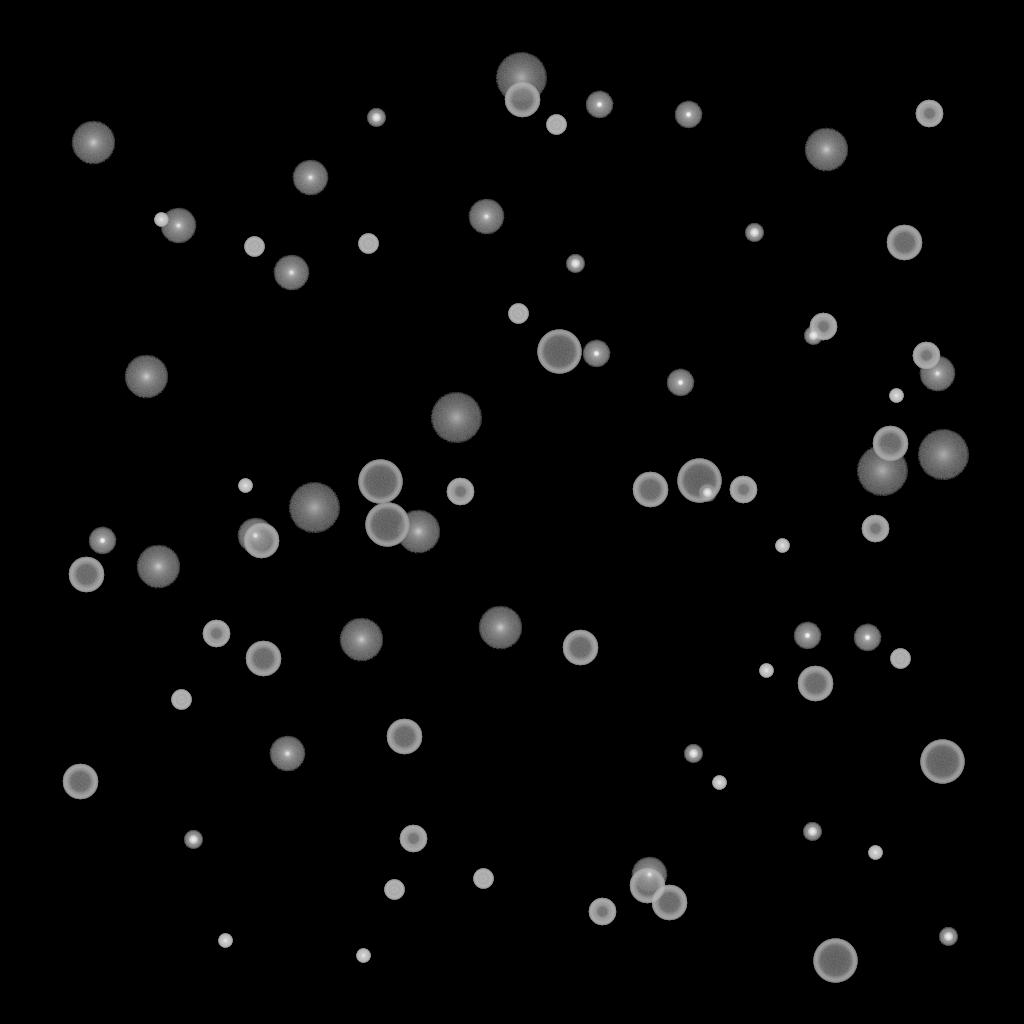depth:-10: (88, 527, 116, 555), (674, 101, 702, 129), (582, 340, 610, 368), (793, 622, 821, 650), (853, 624, 881, 652), (666, 369, 694, 397), (585, 91, 613, 119)
depth:-20: (184, 831, 202, 849), (684, 745, 702, 763), (566, 255, 584, 273), (939, 928, 957, 946), (745, 224, 763, 242), (804, 327, 822, 345), (698, 484, 716, 502), (803, 823, 821, 841), (367, 109, 385, 127)
depth:-30: (868, 846, 882, 860), (154, 213, 168, 227), (775, 539, 789, 553), (759, 664, 773, 678), (238, 479, 252, 493), (889, 389, 903, 403), (356, 949, 370, 963), (712, 776, 726, 790), (218, 934, 232, 948)
depth:-40: (473, 869, 493, 889), (358, 234, 378, 254), (546, 115, 566, 135), (171, 690, 191, 710), (384, 880, 404, 900), (890, 649, 910, 669), (244, 237, 264, 257), (508, 304, 528, 324)
depth:-50: (399, 825, 427, 853), (202, 620, 230, 648), (912, 342, 940, 370), (446, 478, 474, 506), (809, 313, 837, 341), (729, 476, 757, 504), (915, 100, 943, 128), (861, 515, 889, 543), (588, 898, 616, 926)
depth:-60: (245, 641, 281, 677), (632, 472, 668, 508), (886, 225, 922, 261), (243, 523, 279, 559), (797, 666, 833, 702), (651, 885, 687, 921), (386, 719, 422, 755), (68, 557, 104, 593), (629, 868, 665, 904), (872, 426, 908, 462), (62, 764, 98, 800), (562, 630, 598, 666), (504, 82, 540, 118)
depth:-70: (677, 459, 721, 503), (365, 503, 409, 547), (358, 460, 402, 504), (813, 939, 857, 983), (537, 330, 581, 374), (920, 740, 964, 784)
depth:0: (269, 736, 305, 772), (919, 356, 955, 392), (292, 160, 328, 196), (631, 857, 667, 893), (273, 255, 309, 291), (468, 199, 504, 235), (237, 518, 273, 554), (160, 208, 196, 244)
depth:10: (478, 606, 522, 650), (71, 121, 115, 165), (339, 618, 383, 662), (136, 545, 180, 589), (124, 355, 168, 399), (396, 510, 440, 554), (804, 128, 848, 172)
depth:20: (856, 446, 908, 496), (288, 483, 340, 533), (430, 393, 482, 443), (495, 53, 547, 103), (917, 430, 969, 480)
